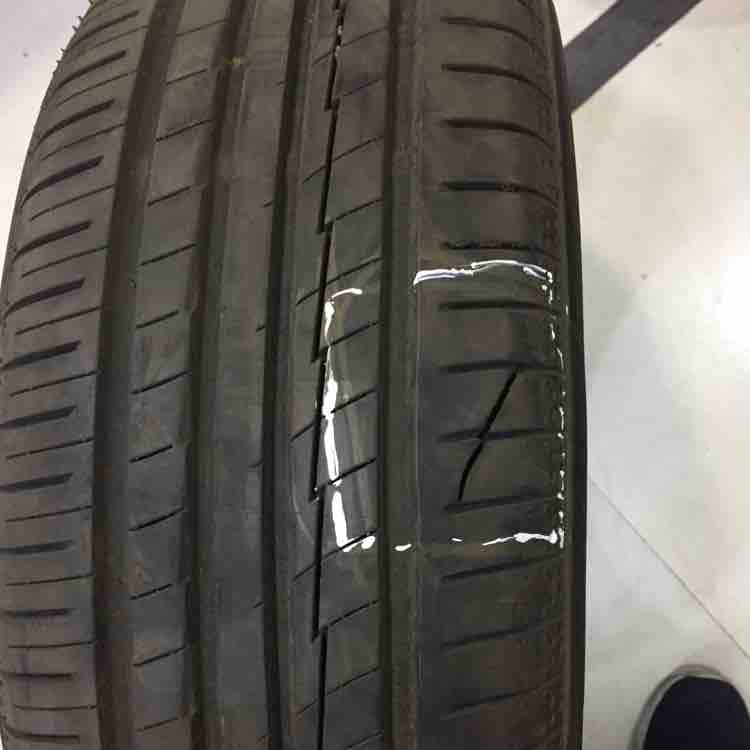tr: (453, 350, 527, 514)
